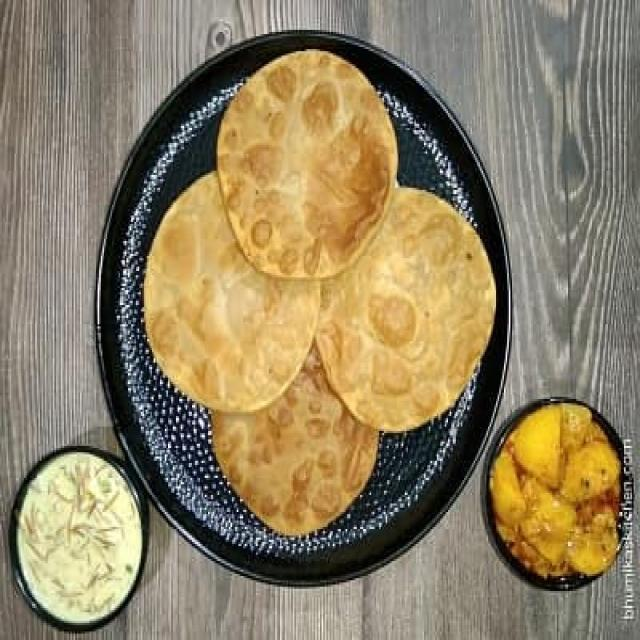CURD: (18, 452, 141, 620)
CURRY: (486, 397, 627, 579)
POORI: (146, 45, 504, 543)
